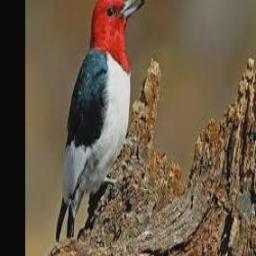Woodpecker: (55, 0, 145, 243)
